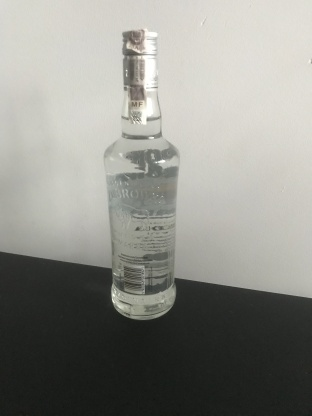nakretka: (120, 27, 160, 93)
